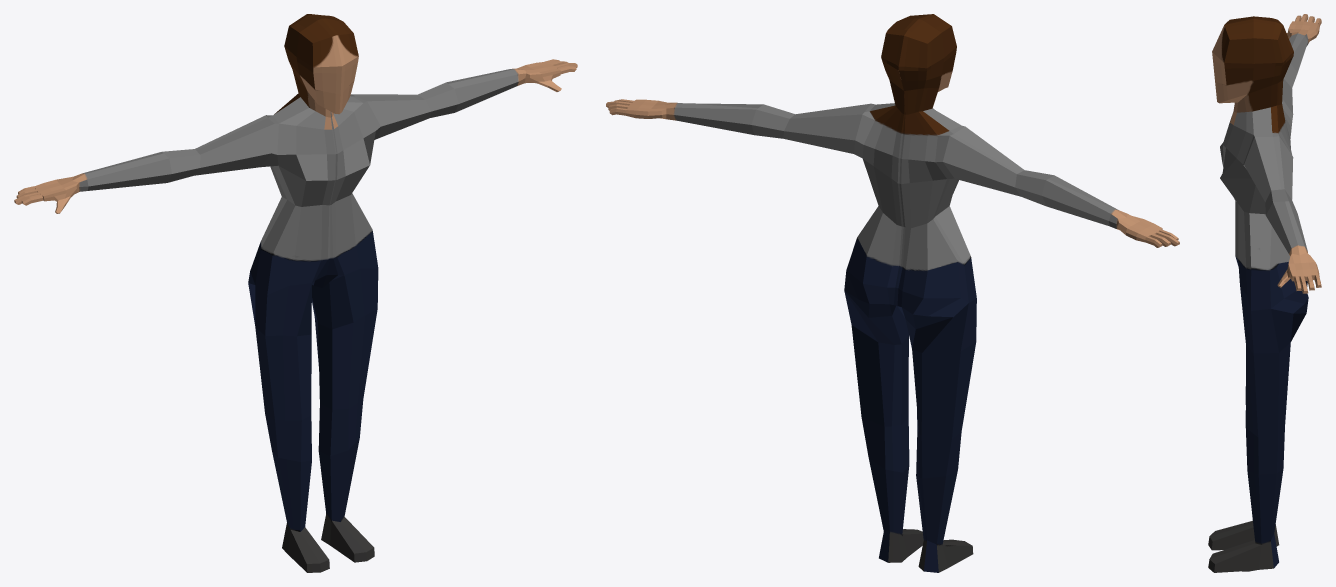
File: jordandiaz_model.fbx
The picture shows the model from 3 angles, left to right: view 1: azimuth 30°, elevation 25°; view 2: azimuth 150°, elevation 25°; view 3: azimuth 270°, elevation 25°; orthographic projection.
Visible parts, largest first — view 1: woman_Jordan; view 2: woman_Jordan; view 3: woman_Jordan.
Boxes of the visible parts, left/top/right/bottom form: woman_Jordan: left=14, top=14, right=577, bottom=572; woman_Jordan: left=606, top=14, right=1179, bottom=572; woman_Jordan: left=1208, top=14, right=1321, bottom=572.
Bounding box in the file's own units: 363 × 332 × 62.99.
